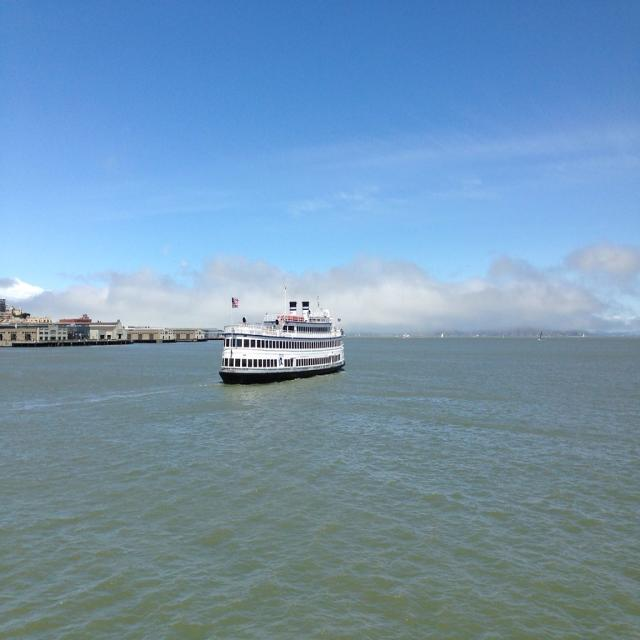passenger ship: (215, 295, 362, 389)
